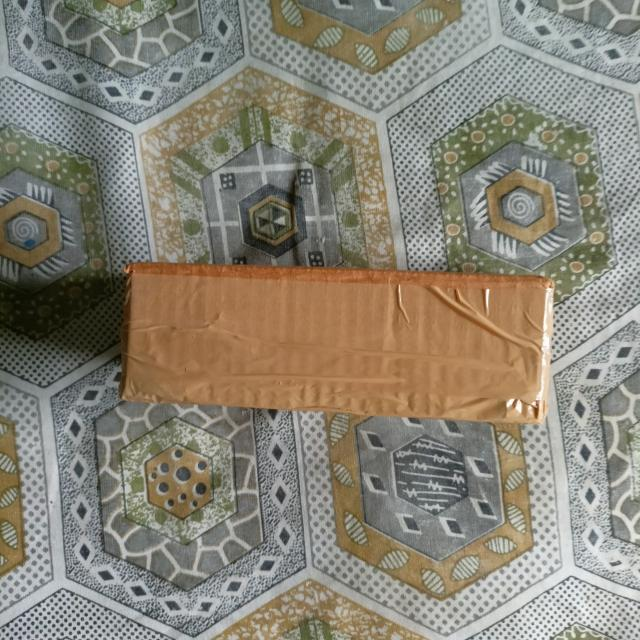box: (126, 269, 550, 422)
